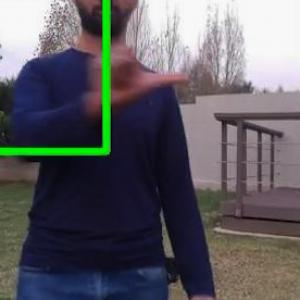land_hand: (76, 0, 191, 115)
